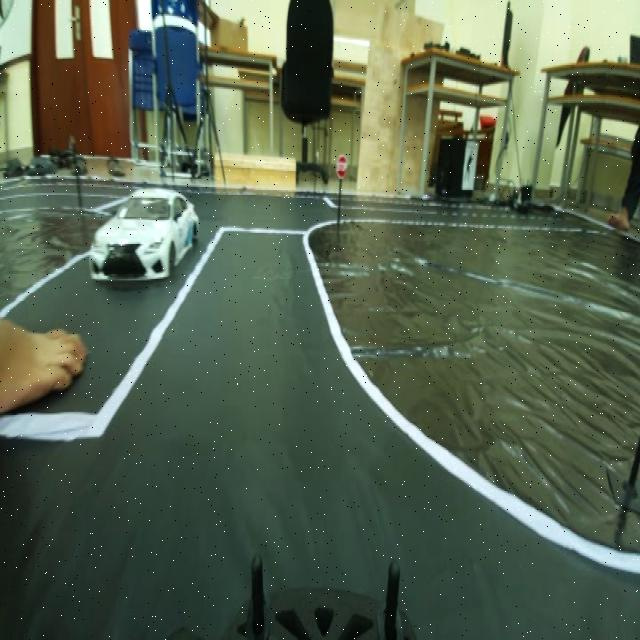car: (96, 186, 190, 289)
stop: (331, 150, 352, 178)
